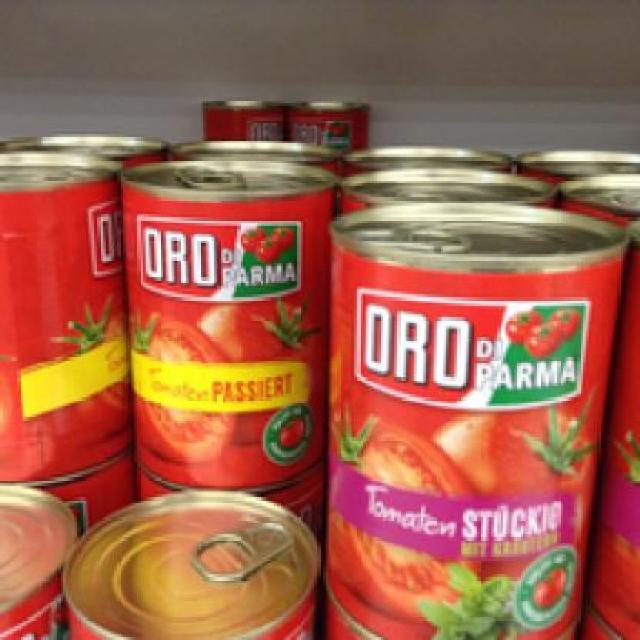Tomato Sauce: (323, 200, 631, 634), (117, 150, 337, 487)
